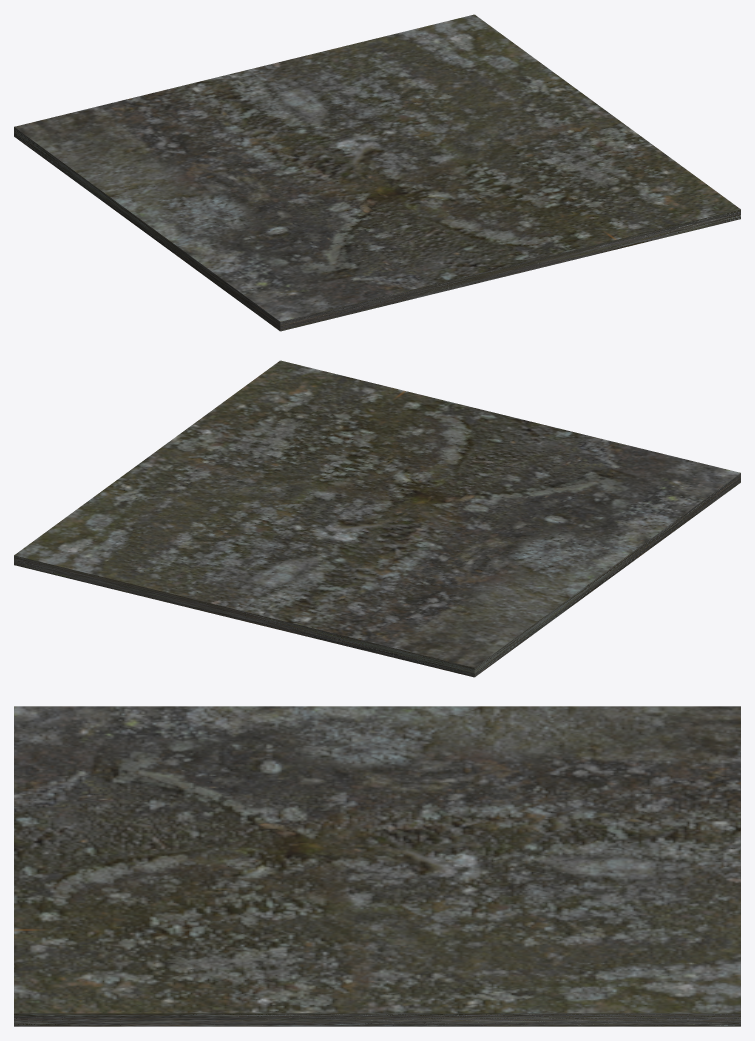
The model's file is Floor 1.fbx.
The picture shows the model from 3 angles, top to bottom: view 1: azimuth 30°, elevation 25°; view 2: azimuth 150°, elevation 25°; view 3: azimuth 270°, elevation 25°; orthographic projection. The views are drawn at different scales.
Parts seen in each view (by area): view 1: Floor, Floor_cell.005, Floor_cell.004, Floor_cell.007, Floor_cell.008, Floor_cell.006, Floor_cell, Floor_cell.002, Floor_cell.010, Floor_cell.003; view 2: Floor, Floor_cell.005, Floor_cell.008, Floor_cell.006, Floor_cell.004, Floor_cell.007, Floor_cell.003, Floor_cell.002, Floor_cell, Floor_cell.001, Floor_cell.010, Floor_cell.009 (+1 smaller); view 3: Floor, Floor_cell.005, Floor_cell.004, Floor_cell.006, Floor_cell.008, Floor_cell.007, Floor_cell.003, Floor_cell, Floor_cell.002, Floor_cell.001, Floor_cell.010, Floor_cell.011.
Part boxes in pixels (x1,y1,x2,y2): Floor: [14, 14, 740, 331]; Floor_cell.005: [346, 88, 607, 291]; Floor_cell.004: [209, 105, 409, 232]; Floor_cell.007: [147, 224, 442, 330]; Floor_cell.008: [229, 21, 466, 106]; Floor_cell.006: [123, 117, 300, 232]; Floor_cell: [14, 114, 126, 215]; Floor_cell.002: [450, 15, 601, 114]; Floor_cell.010: [67, 83, 230, 124]; Floor_cell.003: [449, 183, 725, 289]; Floor: [14, 360, 740, 677]; Floor_cell.005: [167, 420, 577, 531]; Floor_cell.008: [40, 522, 320, 620]; Floor_cell.006: [359, 505, 606, 626]; Floor_cell.004: [239, 503, 535, 601]; Floor_cell.007: [570, 438, 740, 570]; Floor_cell.003: [258, 364, 569, 431]; Floor_cell.002: [14, 460, 168, 567]; Floor_cell: [415, 588, 583, 676]; Floor_cell.001: [144, 390, 289, 467]; Floor_cell.010: [295, 599, 421, 663]; Floor_cell.009: [245, 605, 303, 632]; Floor: [14, 706, 740, 1026]; Floor_cell.005: [14, 793, 541, 994]; Floor_cell.004: [233, 787, 651, 916]; Floor_cell.006: [245, 706, 664, 808]; Floor_cell.008: [525, 830, 740, 995]; Floor_cell.007: [14, 706, 377, 805]; Floor_cell.003: [14, 819, 171, 1002]; Floor_cell: [446, 706, 740, 763]; Floor_cell.002: [388, 962, 740, 1026]; Floor_cell.001: [121, 987, 386, 1026]; Floor_cell.010: [638, 741, 740, 833]; Floor_cell.011: [14, 1001, 124, 1026].
Bounding box in the file's own units: 2227 × 44.87 × 2230.
